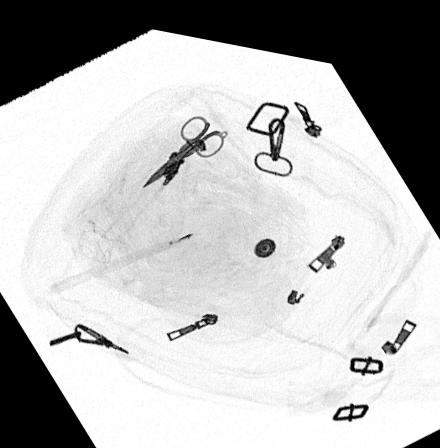Scissors: (142, 105, 226, 181)
